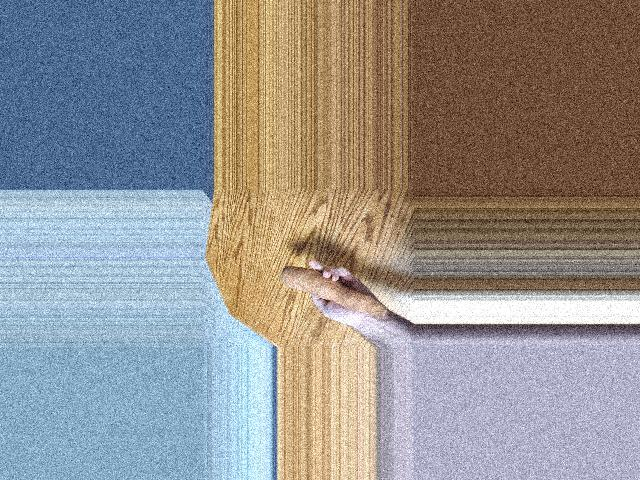sweet_potato: (284, 273, 387, 318)
